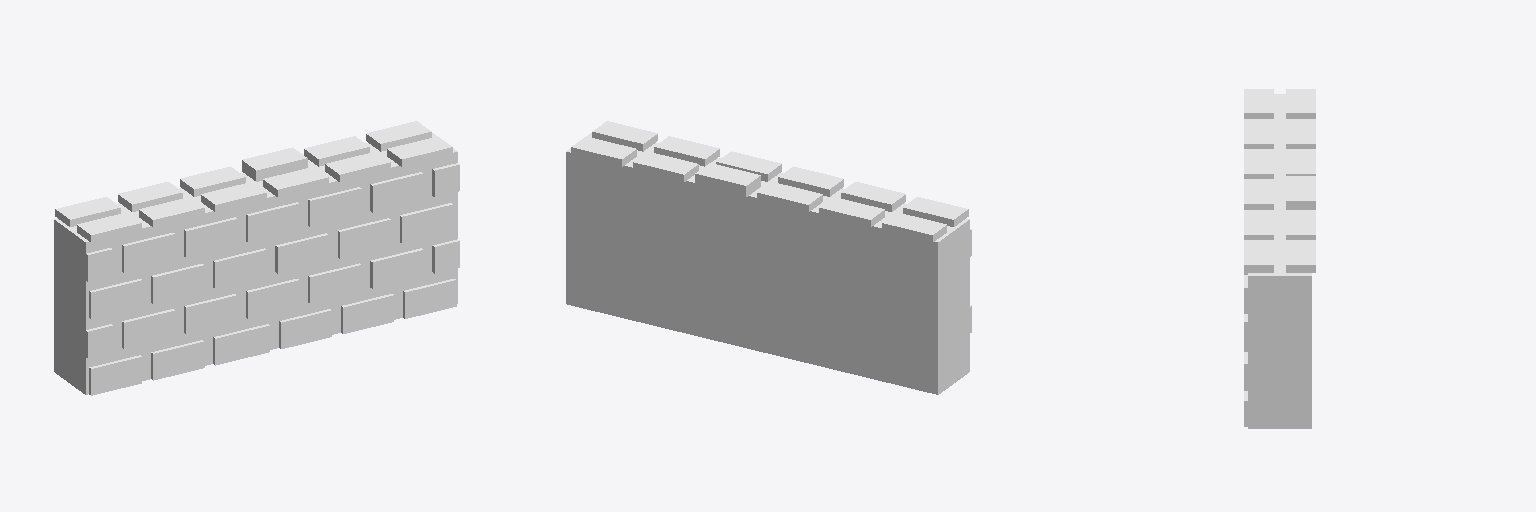
File: Fence-1.obj
3 renders of one model, left to right at view 1: azimuth 30°, elevation 25°; view 2: azimuth 150°, elevation 25°; view 3: azimuth 270°, elevation 25°, orthographic.
Parts seen in each view (by area): view 1: object 1; view 2: object 1; view 3: object 1.
Boxes of the visible parts, <box> form: object 1: <box>54,121,459,395</box>; object 1: <box>566,121,971,394</box>; object 1: <box>1244,89,1315,428</box>.
Bounding box in the file's own units: 10.2 × 4.3 × 1.7.